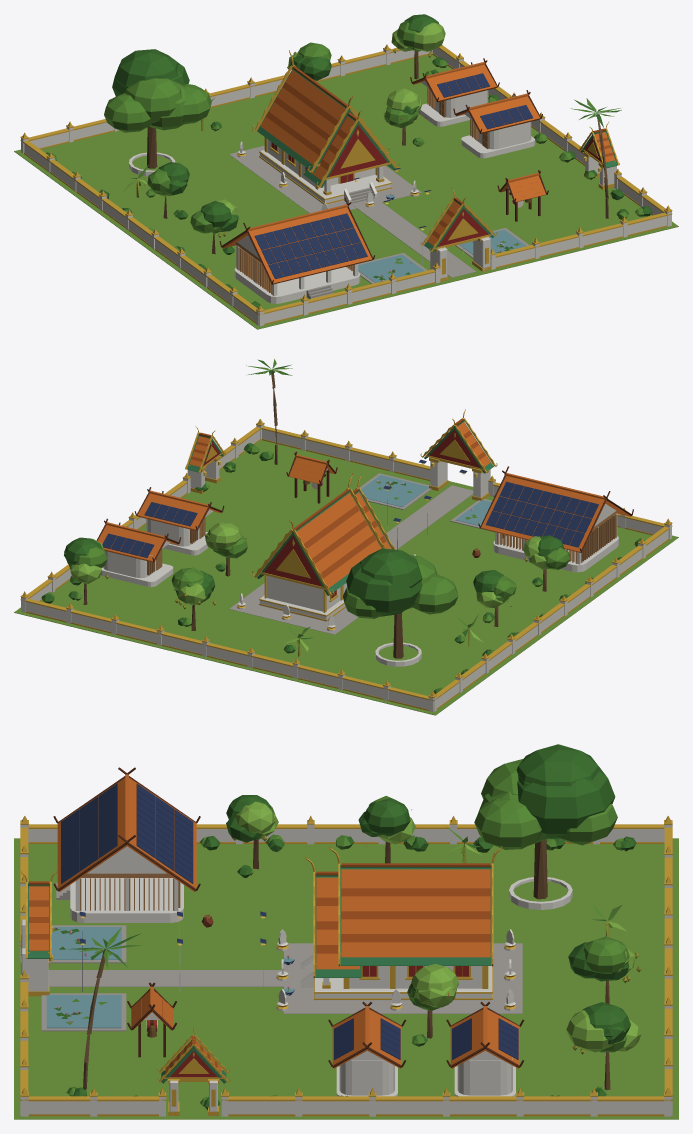
Rendered from temple_1.glb.
3 views of the same model, one above another, from view 1: azimuth 30°, elevation 25°; view 2: azimuth 150°, elevation 25°; view 3: azimuth 270°, elevation 25° (orthographic). The views are drawn at different scales.
Visible parts, largest first — view 1: body; view 2: body; view 3: body.
Part boxes in pixels (<box>): body: <box>14,14,678,329</box>; body: <box>14,359,678,715</box>; body: <box>14,744,678,1119</box>.
Size of the model in its own units: 47.9 by 11.96 by 47.9.
